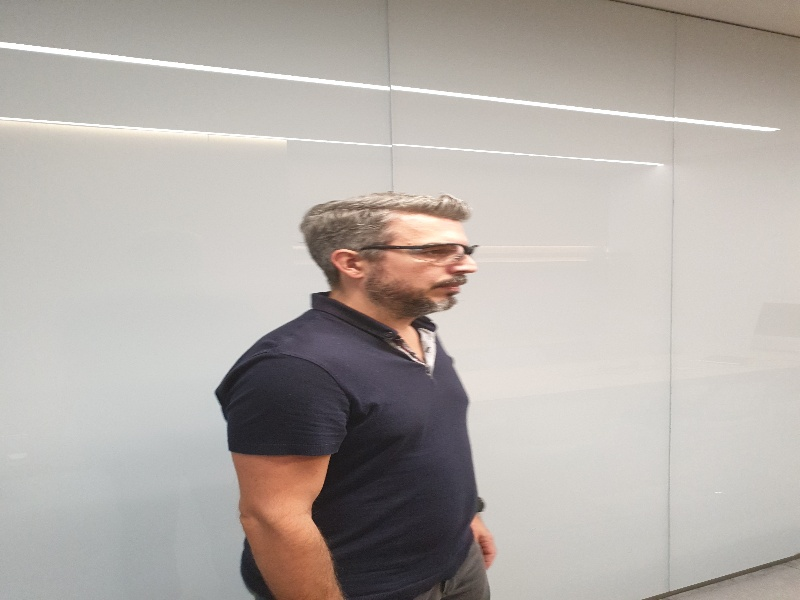Gozluk: (361, 243, 479, 260)
